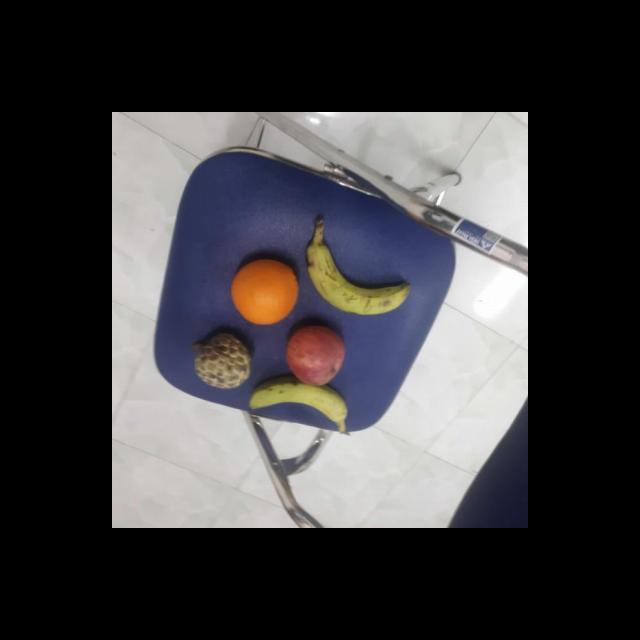Sakya fruit: (190, 332, 252, 392)
apple: (284, 322, 350, 388)
banana: (304, 245, 411, 317), (248, 378, 350, 431)
orange: (229, 256, 302, 326)
